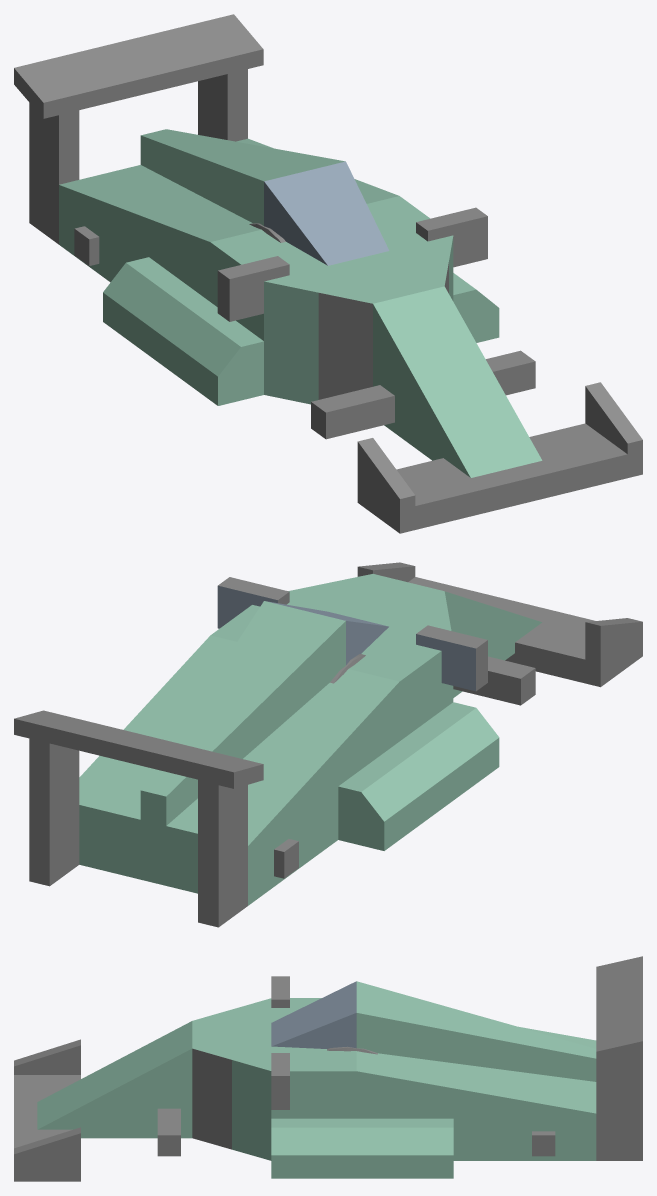
File: raceCarGreen.glb
3 renders of one model, top to bottom at view 1: azimuth 30°, elevation 25°; view 2: azimuth 150°, elevation 25°; view 3: azimuth 270°, elevation 25°, orthographic. The views are drawn at different scales.
Parts seen in each view (by area): view 1: raceCarGreen.001; view 2: raceCarGreen.001; view 3: raceCarGreen.001.
Part boxes in pixels (box(x1,y1,x2,y2)): raceCarGreen.001: box(14, 14, 642, 533); raceCarGreen.001: box(14, 562, 642, 927); raceCarGreen.001: box(14, 956, 642, 1181).
Bounding box in the file's own units: 2.75 × 1.82 × 6.73.
